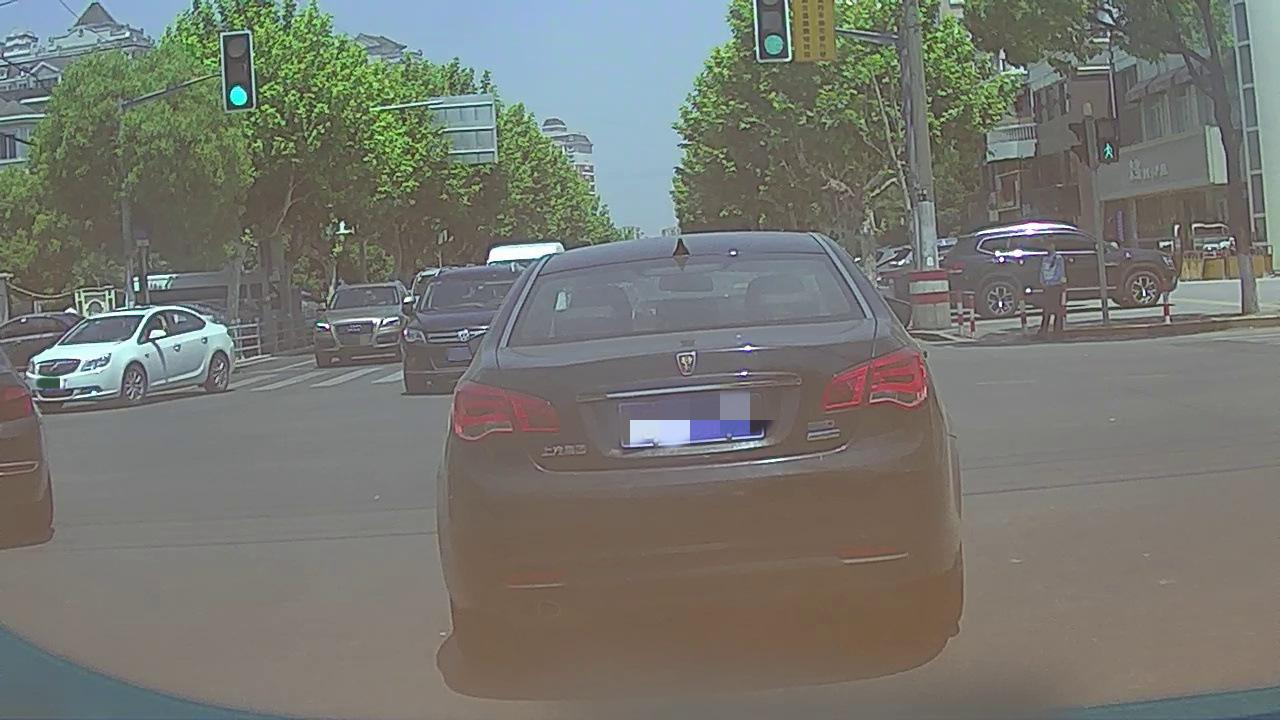traffic_light: (224, 36, 254, 111), (756, 1, 791, 60)
